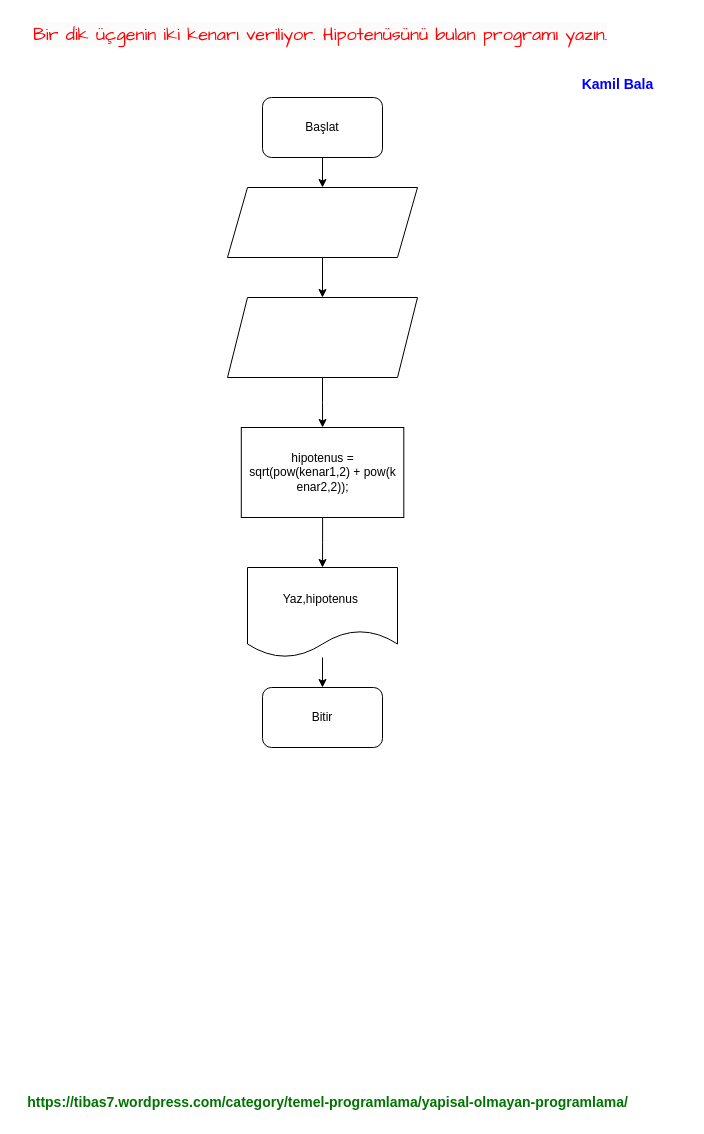
Image size: 704x1134. Some labels were removed from this diagram. The shapes that lost their labels are listed below. From the top down, each one's box as (x1, y1, x2, y2) in pixels, then its label:
(226, 186, 418, 258): "Birinci kenari giriniz", kenar1
(226, 296, 418, 378): "Ikinci kenari giriniz", kenar2
